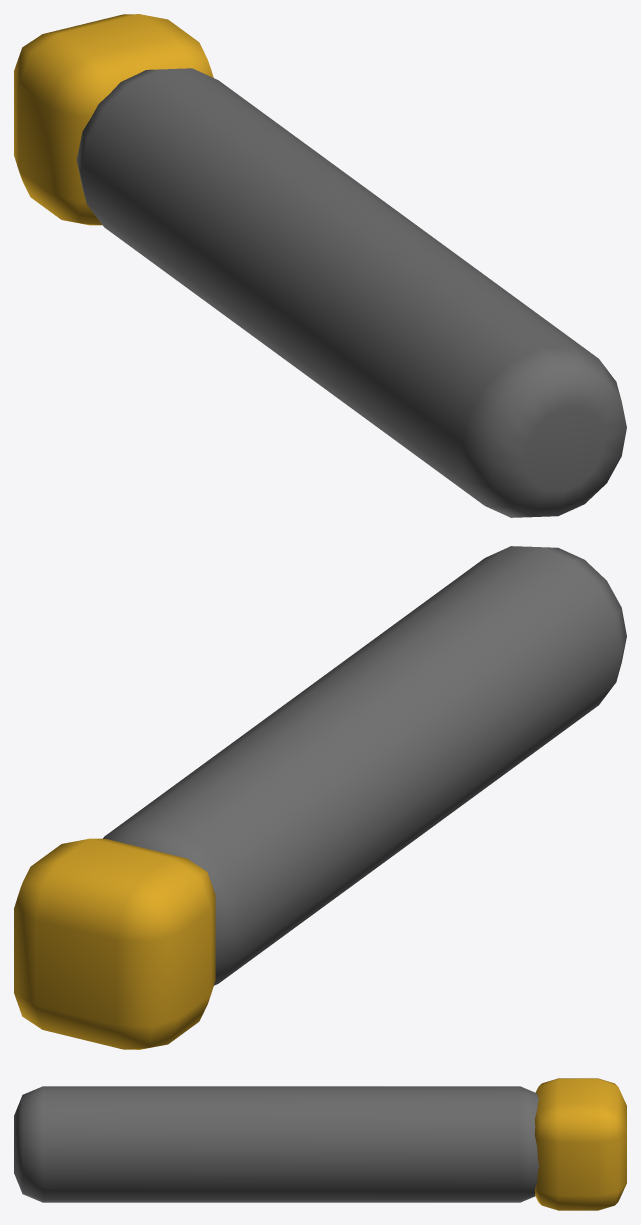
Rendered from weapon-barrel.glb.
3 views of the same model, one above another, from view 1: azimuth 30°, elevation 25°; view 2: azimuth 150°, elevation 25°; view 3: azimuth 270°, elevation 25° (orthographic). The views are drawn at different scales.
Parts seen in each view (by area): view 1: weapon-barrel; view 2: weapon-barrel; view 3: weapon-barrel.
Boxes of the visible parts, x1,y1,x2,y2 form: weapon-barrel: [14, 14, 626, 517]; weapon-barrel: [14, 546, 626, 1049]; weapon-barrel: [14, 1078, 626, 1210].
Size of the model in its own units: 0.12 by 0.12 by 0.63.
